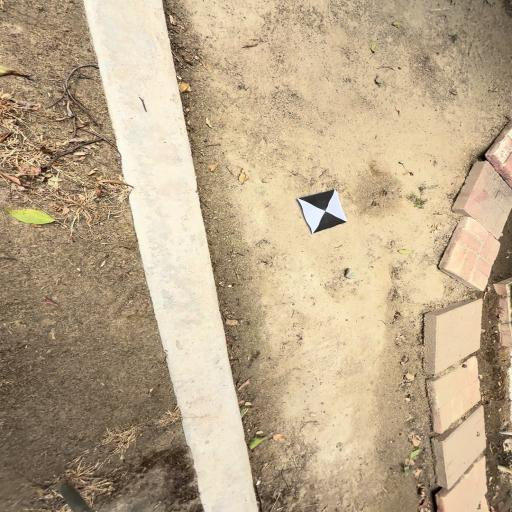target: (301, 190, 348, 233)
